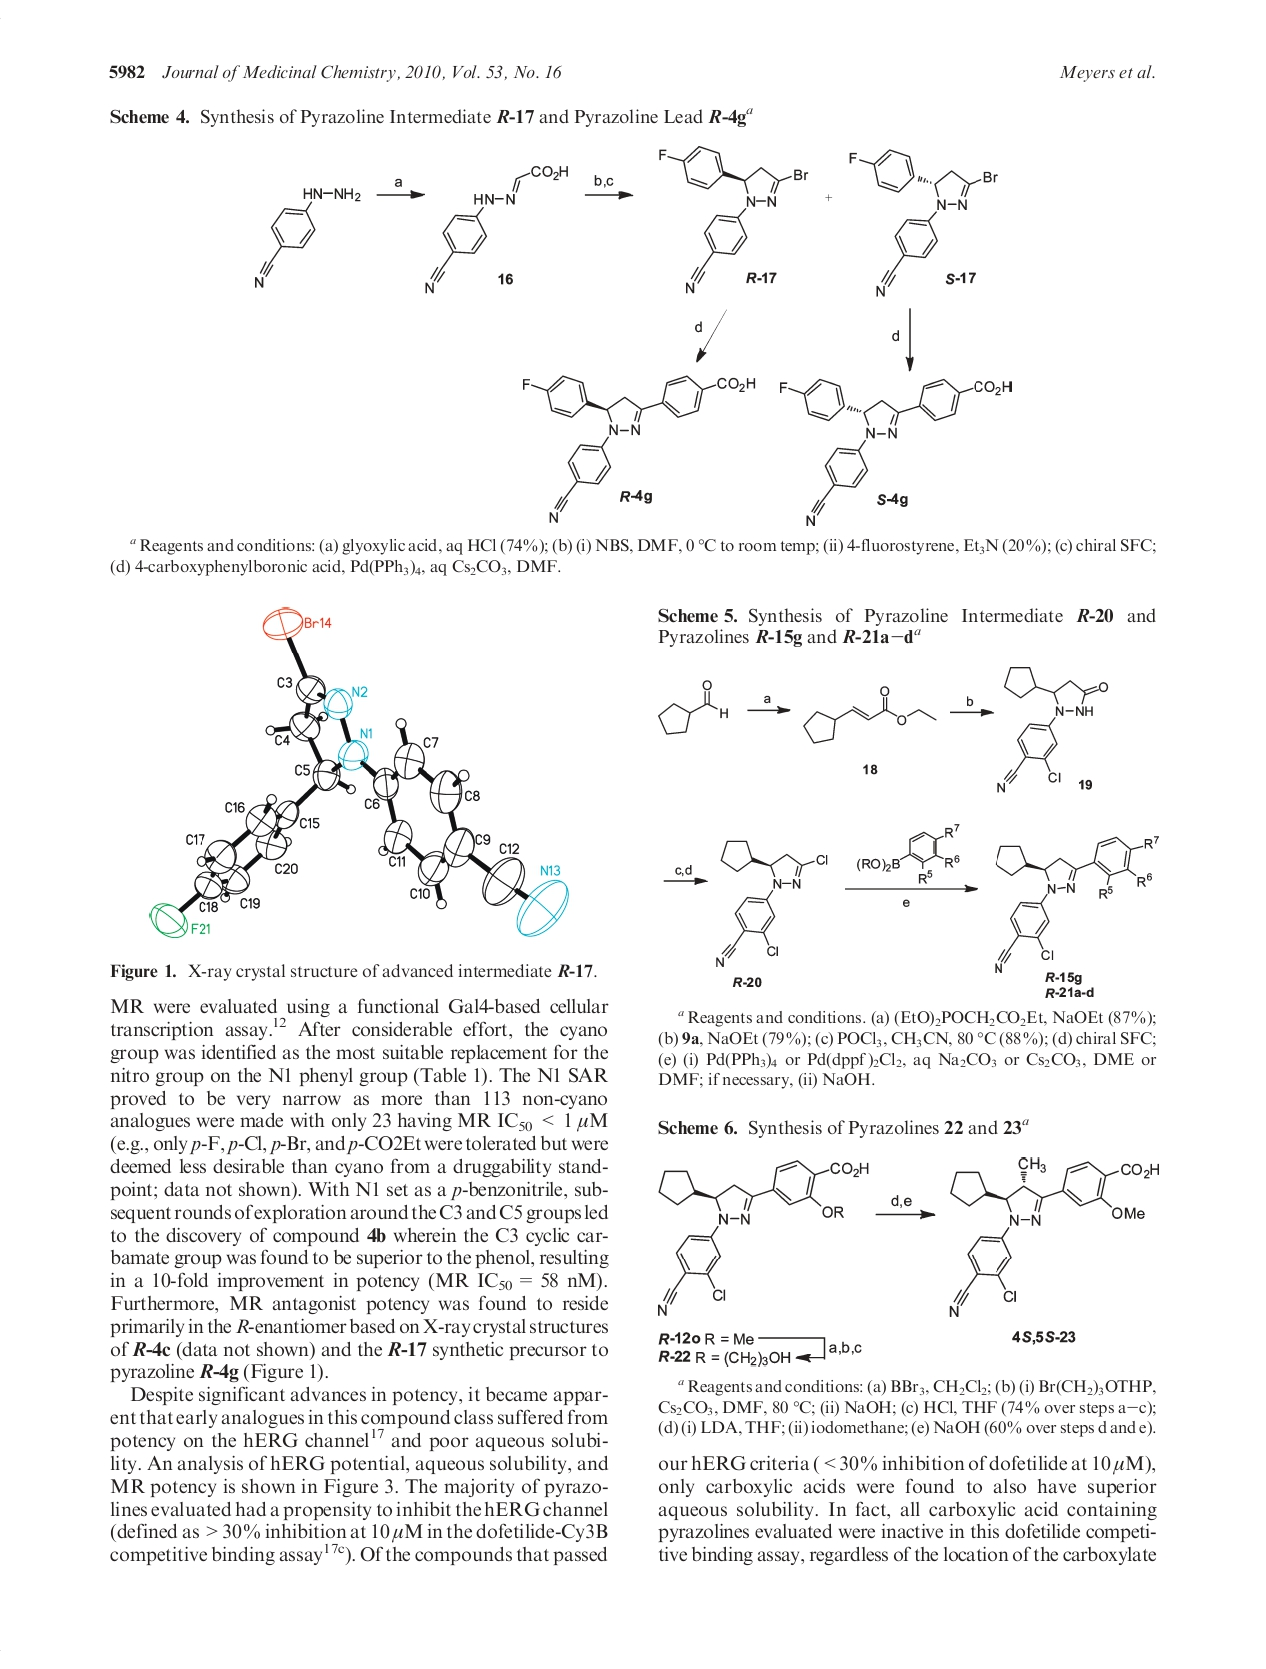exist_molecular: (777, 375, 1015, 531), (519, 372, 761, 525), (946, 1153, 1162, 1321), (653, 1157, 876, 1318), (989, 830, 1164, 976), (846, 145, 999, 301), (658, 145, 810, 297), (422, 162, 570, 297), (709, 836, 832, 968), (991, 664, 1109, 795), (250, 184, 362, 291), (801, 682, 942, 746), (855, 818, 965, 884), (656, 676, 731, 737)
